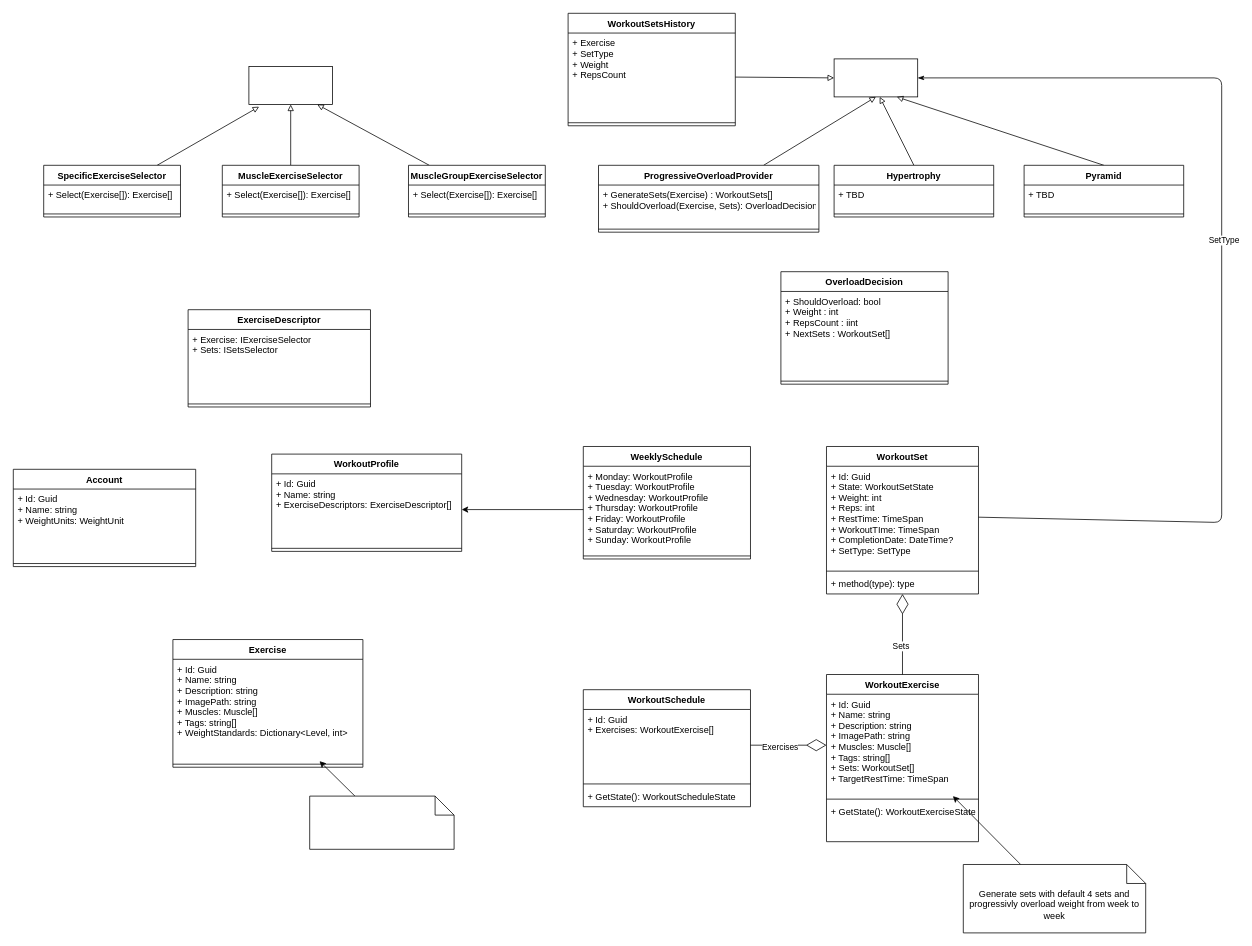
This 1252x946 diagram has some shape labels left out. Here are the shapes that lost their labels. From the top down, the centre of each, then its label:
point 290,85: «interface» IExerciseSelector
point 875,77: «interface» ISets Provider
point 381,822: Use "Compaund" exercise tag to determine RestTime
